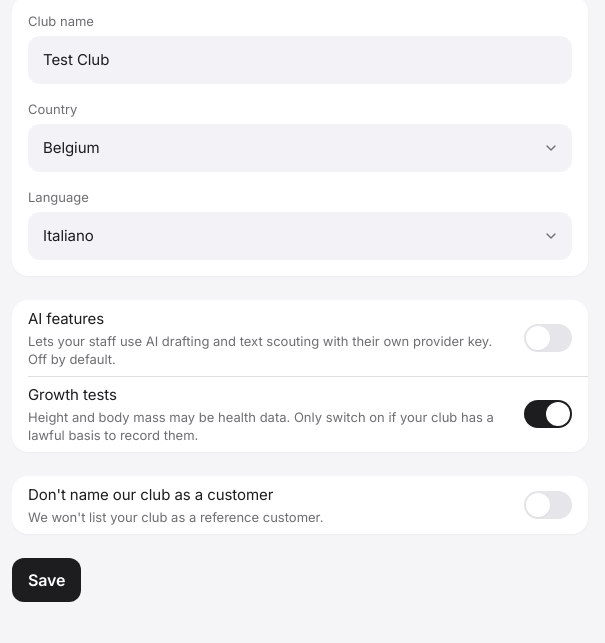
Test: ProfileTab › refuses a name under 2 characters inline without saving
This screenshot has width=605, height=643.
Replace the text in the field labelled "Club name" with " A " at [300, 60], box left=28, top=36, right=572, bottom=84
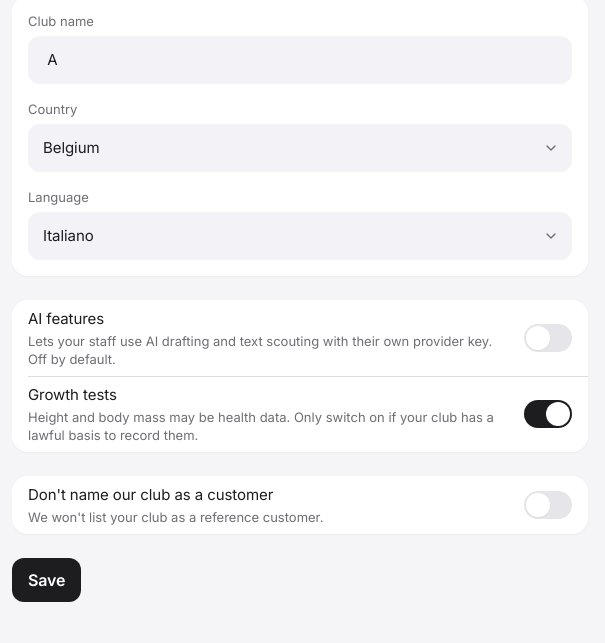
Click the button "Save".
click(47, 580)  # box left=12, top=558, right=81, bottom=602
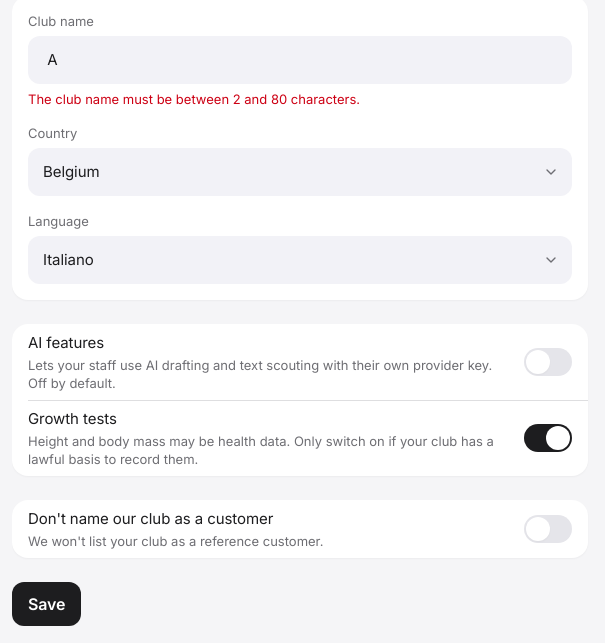
Check: the message shows "2 and 80", box left=28, top=91, right=360, bottom=107
